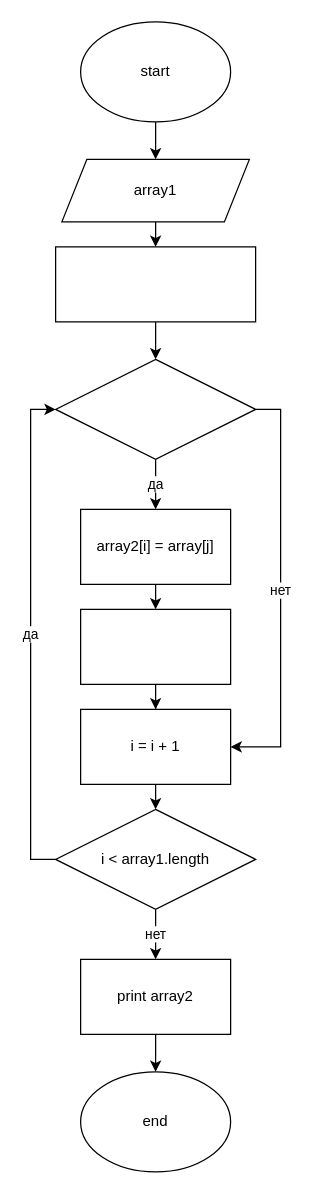
Image size: 313x1194. Some labels were removed from this diagram. The centre of each missing label's shape, as x and y in pixels:
array1[i].length <= 3: point 155,408
array2 i = 0 j = 0: point 155,284
j = j + 1: point 155,646
